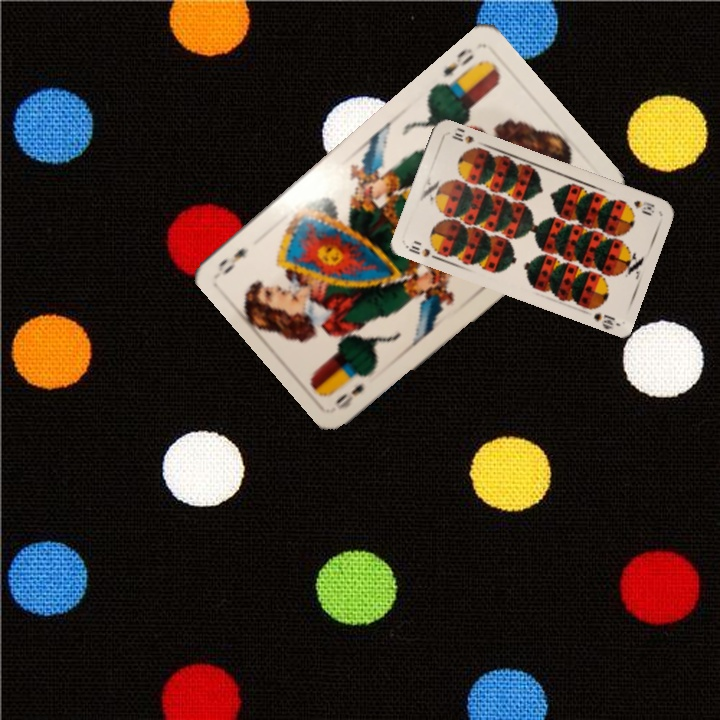EO: (439, 44, 477, 79), (331, 379, 367, 413)
S10: (403, 241, 442, 263), (629, 196, 657, 216)
